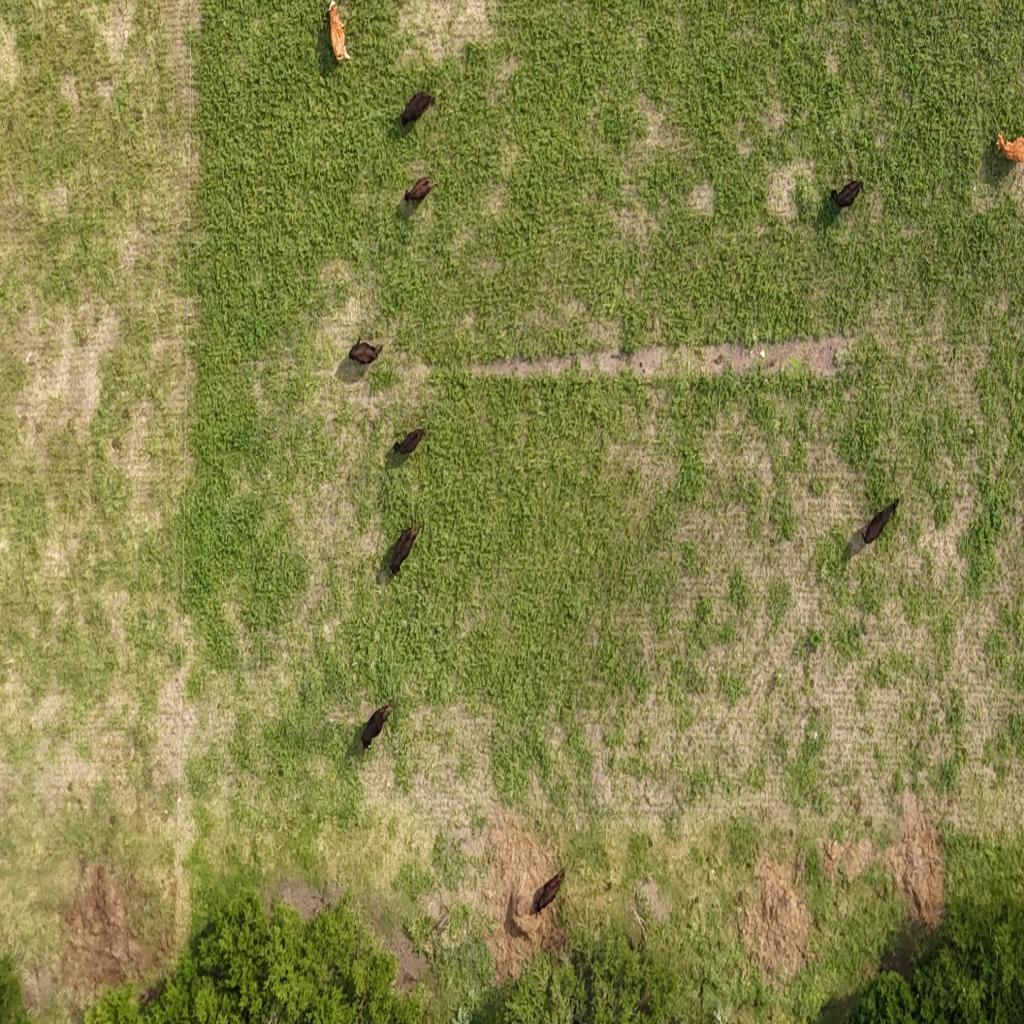cow: (847, 495, 900, 557), (523, 866, 568, 924), (359, 697, 397, 755), (388, 523, 422, 579), (326, 0, 354, 65), (399, 88, 438, 133), (345, 335, 385, 377), (390, 424, 427, 463), (829, 177, 864, 214), (991, 130, 1024, 167), (402, 177, 436, 211), (382, 702, 394, 722), (392, 438, 406, 454)
